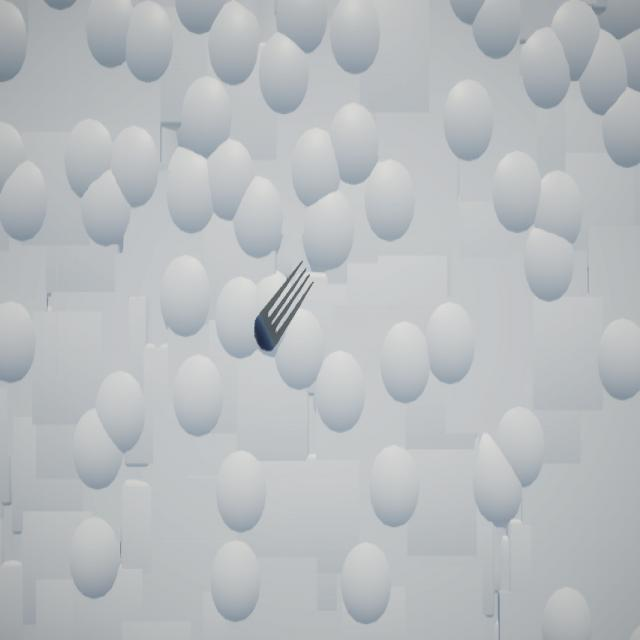top_folk: (255, 261, 315, 353)
